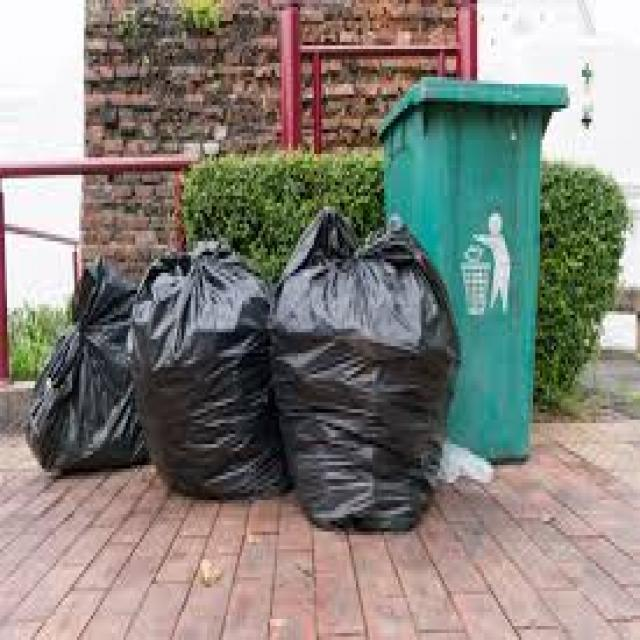garbage: (21, 248, 466, 539)
